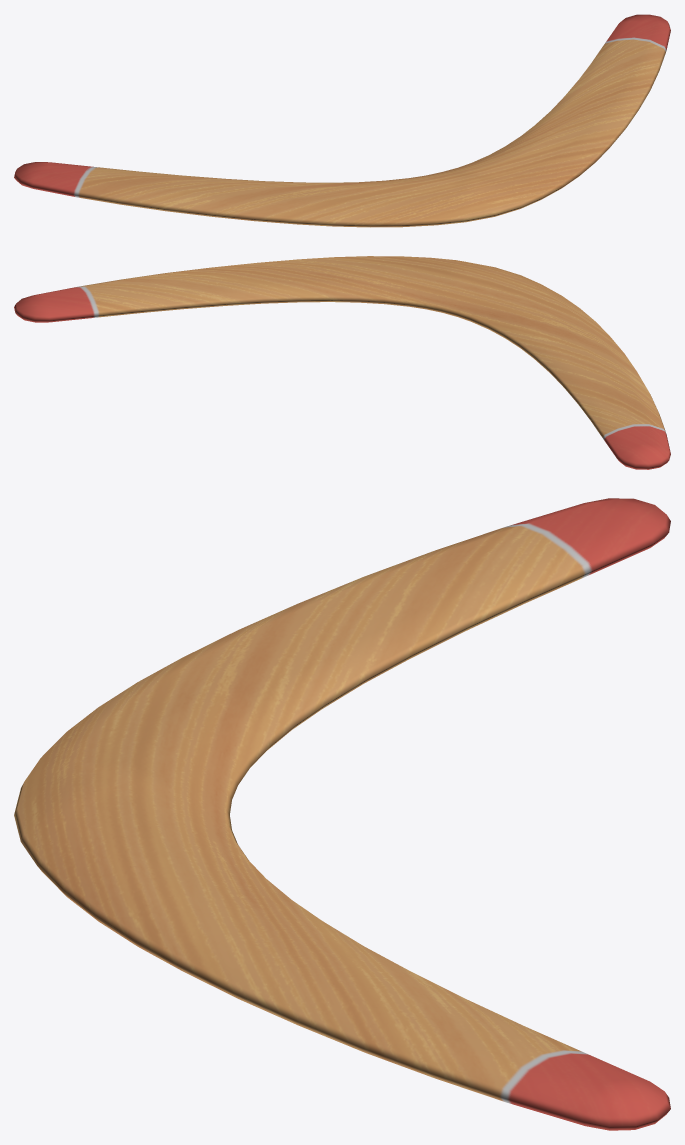
File: boomerang.fbx
3 views of the same model, one above another, from view 1: azimuth 30°, elevation 25°; view 2: azimuth 150°, elevation 25°; view 3: azimuth 270°, elevation 25° (orthographic). The views are drawn at different scales.
Visible parts, largest first — view 1: boomerang; view 2: boomerang; view 3: boomerang.
Part boxes in pixels (x1,y1,x2,y2): boomerang: [14, 14, 670, 227]; boomerang: [14, 256, 670, 469]; boomerang: [14, 498, 670, 1130].
Bounding box in the file's own units: 72.42 × 2.21 × 32.29.
1 material, 1 textured.
